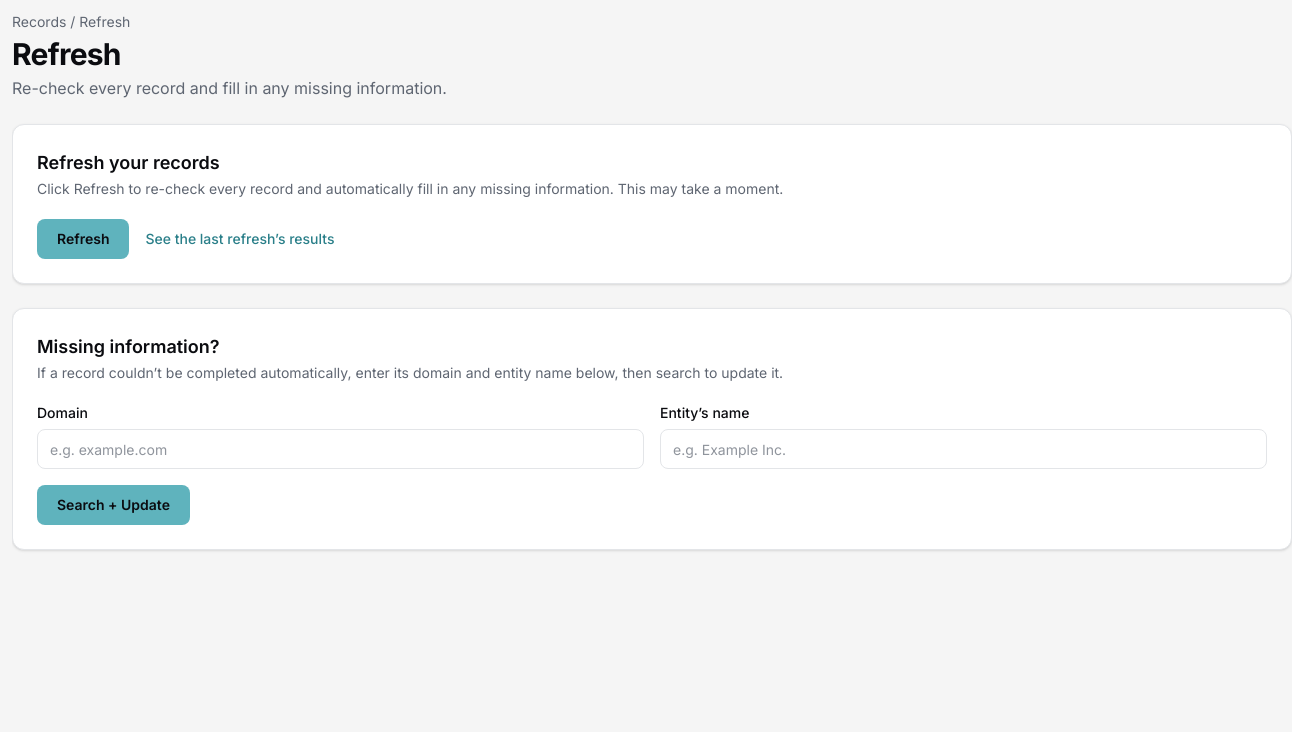
Scenario: if the refresh can't start, offers Try again
Click the button "Refresh".
click(83, 239)  # box [37,219,130,259]
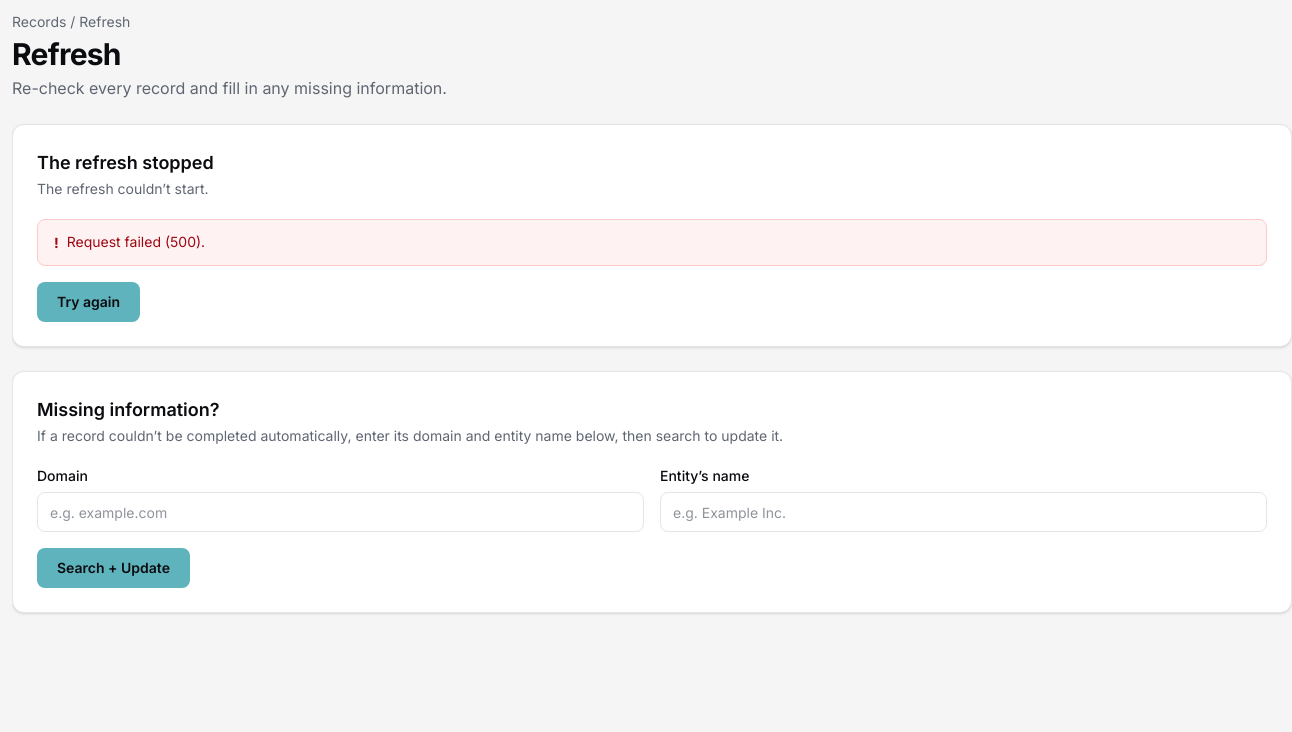
Result: the message shows "Request failed (500)." at [67,233,205,250]
Result: the text "The refresh couldn’t start." is shown at [37,179,214,199]
Click the button "Try again".
click(89, 302)  # box [37,282,140,322]
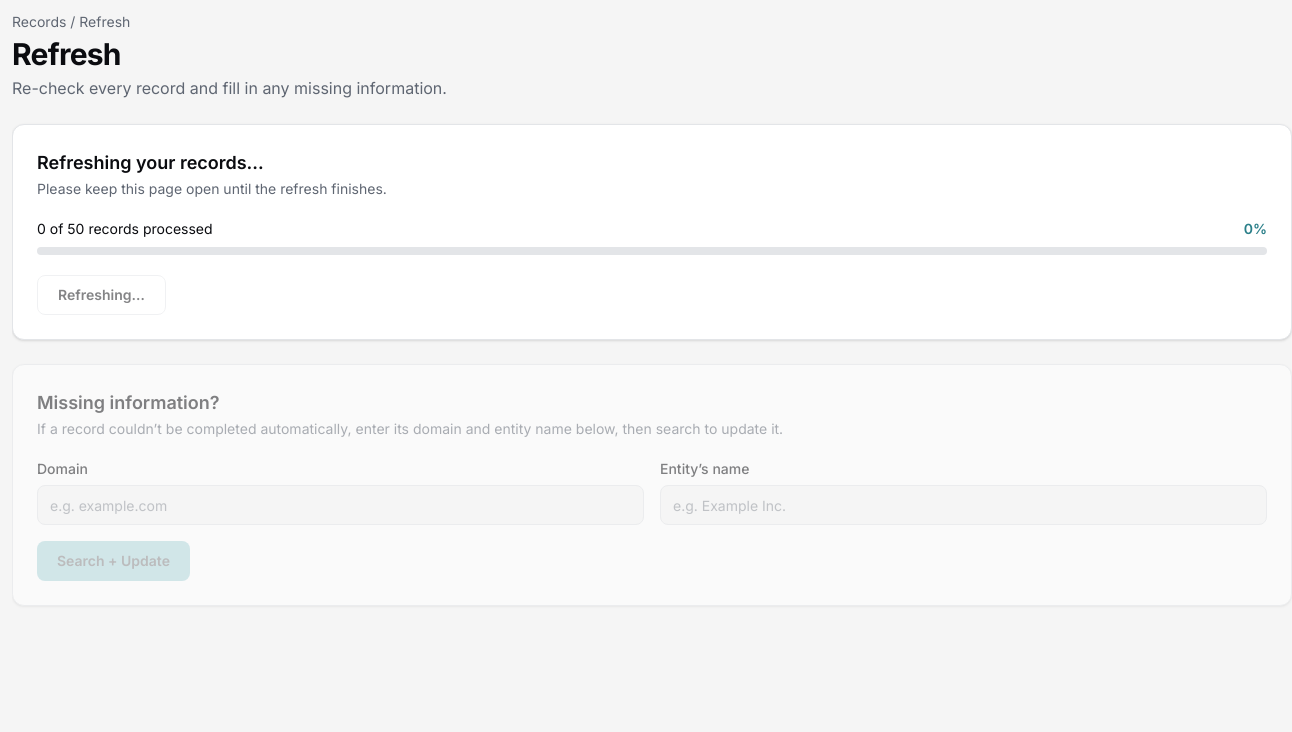
Result: the heading "Refreshing your records…" is shown at [37,152,264,173]
